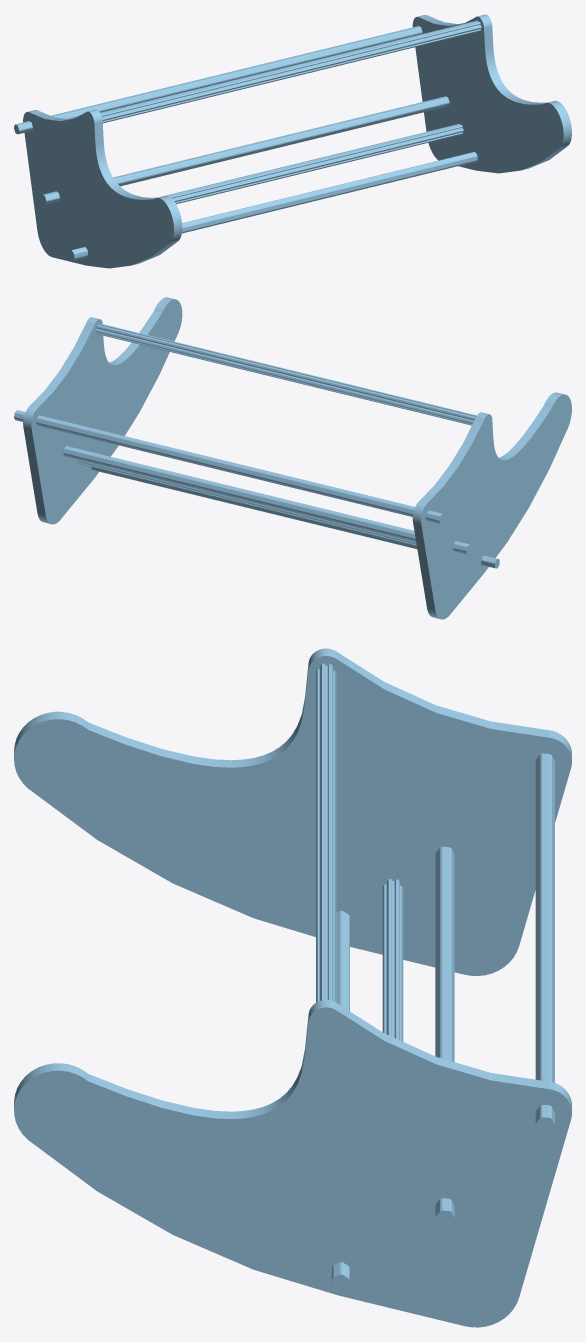
The picture shows the model from 3 angles, top to bottom: view 1: azimuth 30°, elevation 25°; view 2: azimuth 150°, elevation 25°; view 3: azimuth 270°, elevation 25°; orthographic projection. The views are drawn at different scales.
Visible parts, largest first — view 1: Intake; view 2: Intake; view 3: Intake.
Boxes of the visible parts, bbox=[...] form: Intake: bbox=[14, 14, 571, 268]; Intake: bbox=[14, 297, 571, 619]; Intake: bbox=[14, 648, 571, 1327].
Size of the model in its own units: 0.6477 by 0.2519 by 0.398.
